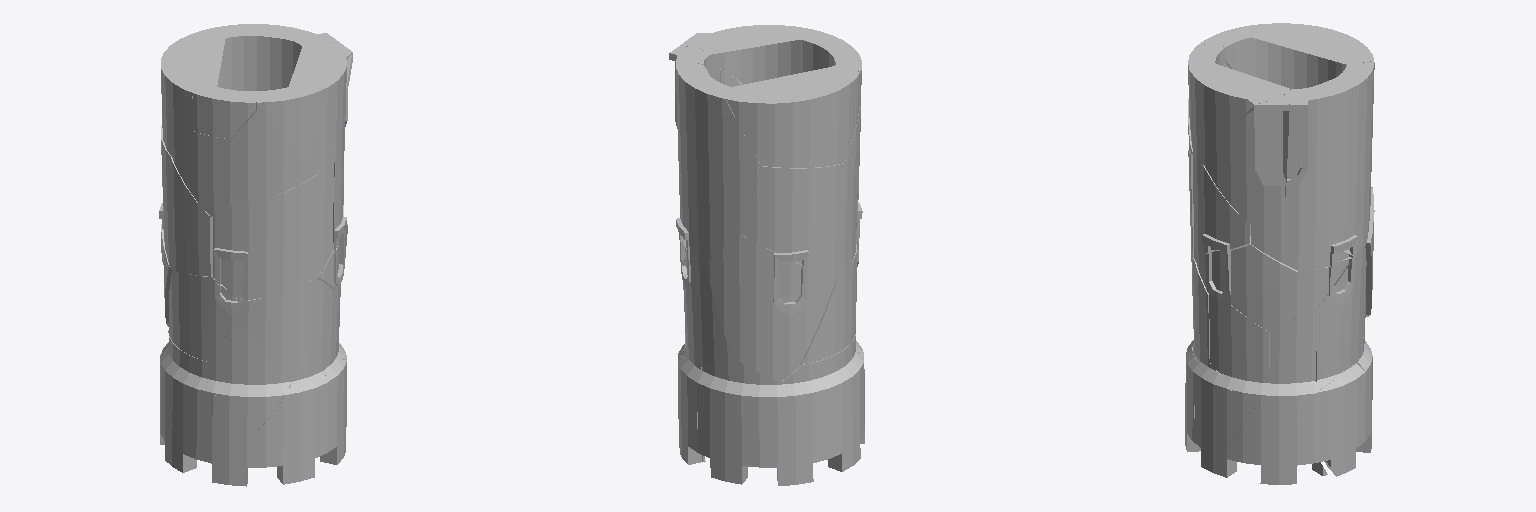
Rendered from destruction_tower_000008.obj.
3 views of the same model, side by side, from view 1: azimuth 30°, elevation 25°; view 2: azimuth 150°, elevation 25°; view 3: azimuth 270°, elevation 25° (orthographic).
Visible parts, largest first — view 1: tower.001_cell.024_Mesh.024, tower.001_cell.028_Mesh.028, tower.001_cell.021_Mesh.021, tower.001_cell.006_Mesh.006, tower.001_cell.011_Mesh.011, tower.001_cell.013_Mesh.013, tower.001_cell.002_Mesh.002, tower.001_cell.015_Mesh.015, tower.001_cell.009_Mesh.009, tower.001_cell.003_Mesh.003, tower.001_cell.017_Mesh.017, tower.001_cell.014_Mesh.014 (+9 smaller); view 2: tower.001_cell.025_Mesh.025, tower.001_cell.017_Mesh.017, tower.001_cell.007_Mesh.007, tower.001_cell.015_Mesh.015, tower.001_cell.003_Mesh.003, tower.001_cell.028_Mesh.028, tower.001_cell.005_Mesh.005, tower.001_cell.012_Mesh.012, tower.001_cell.009_Mesh.009, tower.001_cell.029_Mesh.029, tower.001_cell.006_Mesh.006, tower.001_cell.026_Mesh.026 (+1 smaller); view 3: tower.001_cell.017_Mesh.017, tower.001_cell.020_Mesh.020, tower.001_cell.015_Mesh.015, tower.001_cell.028_Mesh.028, tower.001_cell.030_Mesh.030, tower.001_cell.029_Mesh.029, tower.001_cell_Mesh, tower.001_cell.012_Mesh.012, tower.001_cell.016_Mesh.016, tower.001_cell.023_Mesh.023, tower.001_cell.027_Mesh.027, tower.001_cell.026_Mesh.026 (+9 smaller).
Boxes of the visible parts, x1,y1,x2,y2 form: tower.001_cell.024_Mesh.024: [213, 174, 316, 300]; tower.001_cell.028_Mesh.028: [249, 46, 352, 169]; tower.001_cell.021_Mesh.021: [237, 279, 333, 383]; tower.001_cell.006_Mesh.006: [164, 388, 255, 486]; tower.001_cell.011_Mesh.011: [256, 373, 329, 484]; tower.001_cell.013_Mesh.013: [207, 320, 290, 432]; tower.001_cell.002_Mesh.002: [230, 110, 317, 205]; tower.001_cell.015_Mesh.015: [161, 30, 225, 156]; tower.001_cell.009_Mesh.009: [169, 270, 236, 361]; tower.001_cell.003_Mesh.003: [159, 126, 212, 276]; tower.001_cell.017_Mesh.017: [205, 24, 311, 90]; tower.001_cell.014_Mesh.014: [172, 131, 229, 216]; tower.001_cell.025_Mesh.025: [705, 234, 835, 381]; tower.001_cell.017_Mesh.017: [676, 58, 761, 261]; tower.001_cell.007_Mesh.007: [697, 355, 815, 485]; tower.001_cell.015_Mesh.015: [726, 66, 859, 167]; tower.001_cell.003_Mesh.003: [741, 163, 857, 280]; tower.001_cell.028_Mesh.028: [696, 25, 847, 84]; tower.001_cell.005_Mesh.005: [784, 334, 863, 462]; tower.001_cell.012_Mesh.012: [680, 254, 730, 366]; tower.001_cell.009_Mesh.009: [800, 244, 858, 364]; tower.001_cell.029_Mesh.029: [678, 355, 701, 464]; tower.001_cell.006_Mesh.006: [828, 355, 864, 471]; tower.001_cell.026_Mesh.026: [669, 46, 719, 128]; tower.001_cell.017_Mesh.017: [1315, 61, 1374, 256]; tower.001_cell.020_Mesh.020: [1201, 98, 1289, 225]; tower.001_cell.015_Mesh.015: [1251, 23, 1373, 88]; tower.001_cell.028_Mesh.028: [1188, 44, 1290, 155]; tower.001_cell.030_Mesh.030: [1211, 404, 1325, 484]; tower.001_cell.029_Mesh.029: [1296, 361, 1365, 476]; tower.001_cell_Mesh: [1209, 295, 1269, 404]; tower.001_cell.012_Mesh.012: [1315, 248, 1366, 388]; tower.001_cell.016_Mesh.016: [1266, 308, 1319, 408]; tower.001_cell.023_Mesh.023: [1194, 363, 1256, 471]; tower.001_cell.027_Mesh.027: [1228, 258, 1353, 331]; tower.001_cell.026_Mesh.026: [1281, 86, 1314, 226].
Bounding box in the file's own units: 44.64 × 97.36 × 43.38.